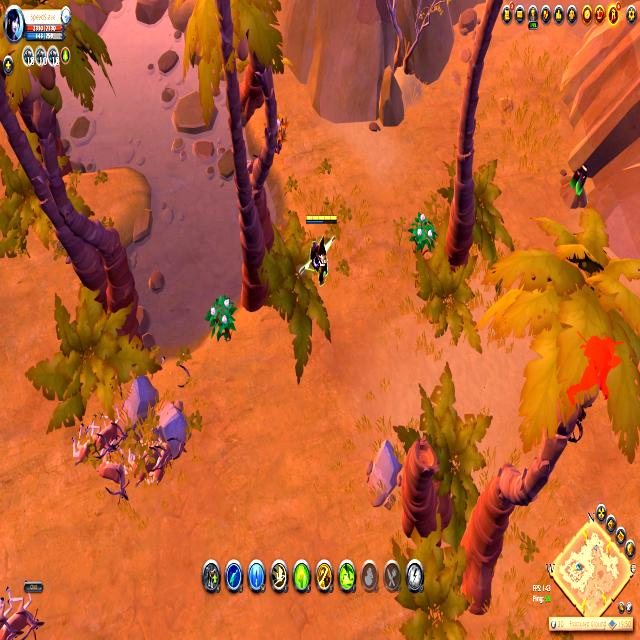hide: (207, 292, 236, 342), (410, 210, 436, 253), (272, 108, 289, 156)
mob: (129, 437, 172, 491), (0, 588, 43, 640), (94, 451, 131, 505), (94, 410, 128, 450), (70, 426, 94, 466)
ore: (561, 331, 625, 411)
player: (561, 164, 589, 209)
red: (304, 212, 334, 282)
